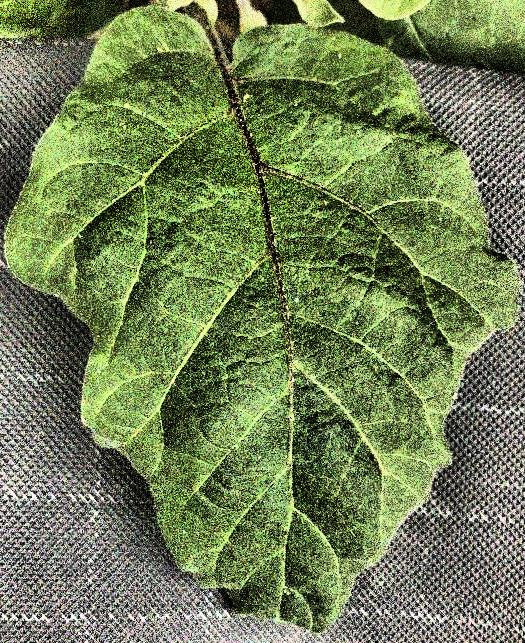HEALTHY: (0, 1, 525, 643)
